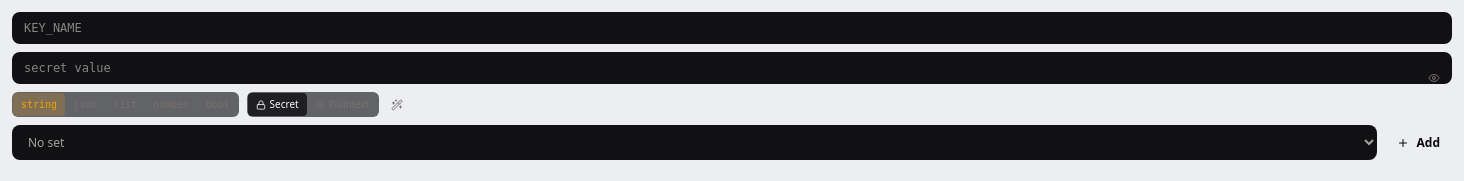
Test: VariableQuickAddForm — type switching › does not carry the bool default value into another type
Click the button "bool".
click(217, 104)  # box top-left (197, 93), bottom-right (238, 116)
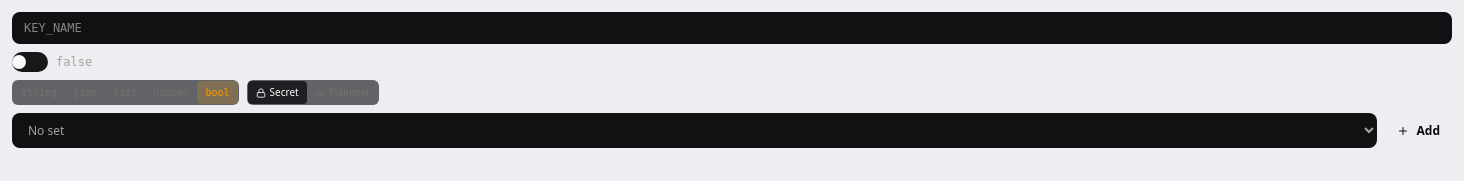
Result: the switch is shown at top-left (12, 52), bottom-right (48, 72)
Click the button "list".
click(125, 92)  # box top-left (105, 81), bottom-right (145, 104)
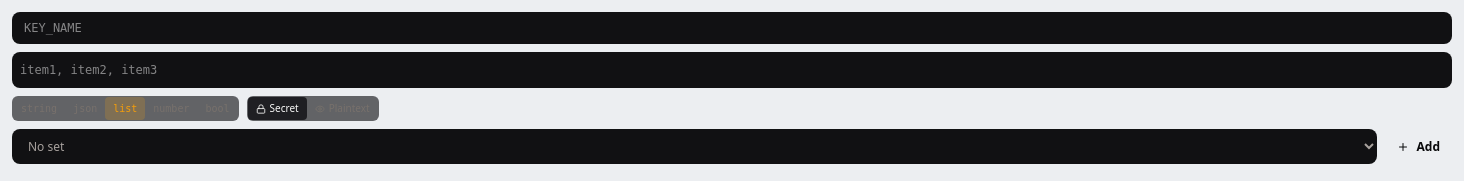
Result: the field named "Add list item" is shown at top-left (20, 62), bottom-right (1444, 78)
Result: the text "false" is gone
